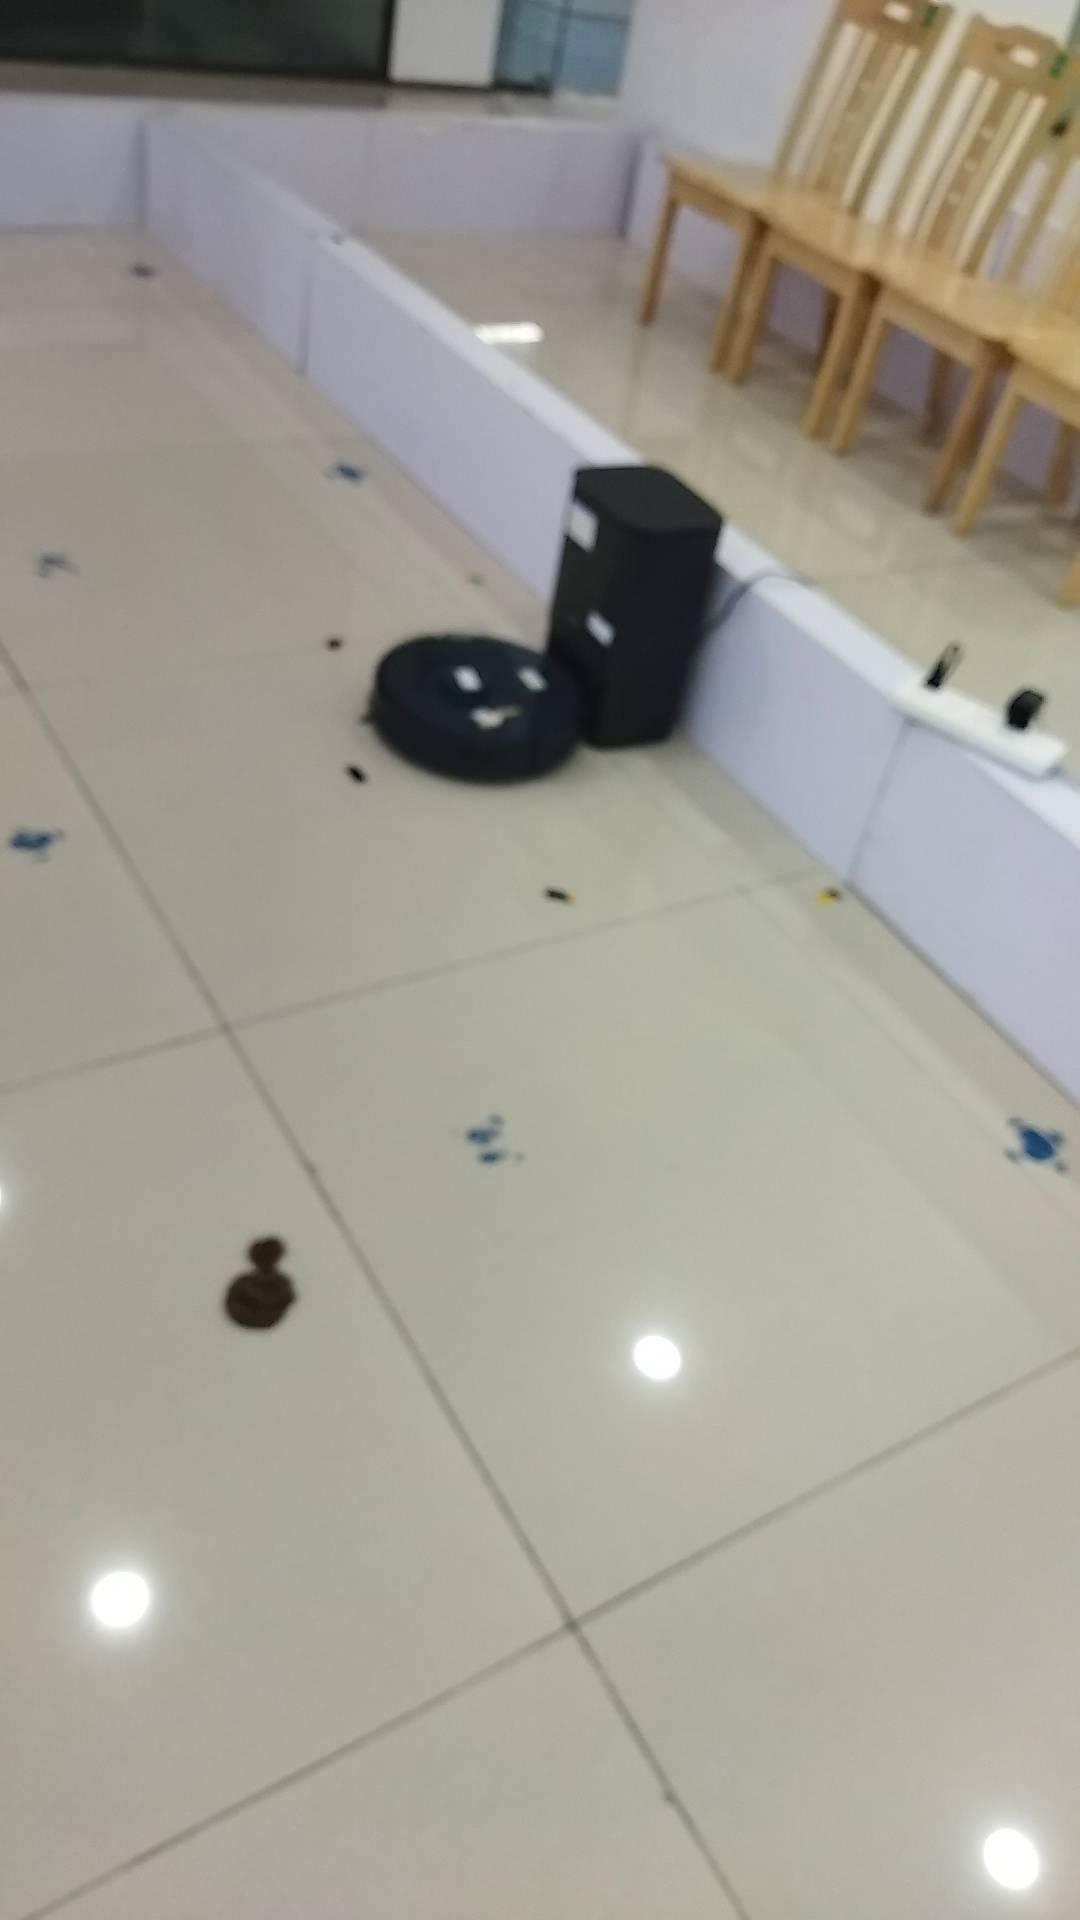dust collecting barrel: (542, 465, 723, 754)
